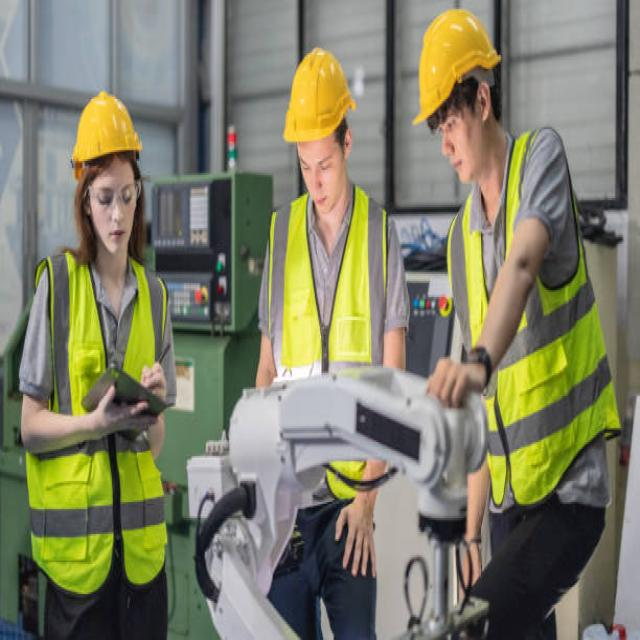Robotic-arm: (188, 355, 488, 640)
